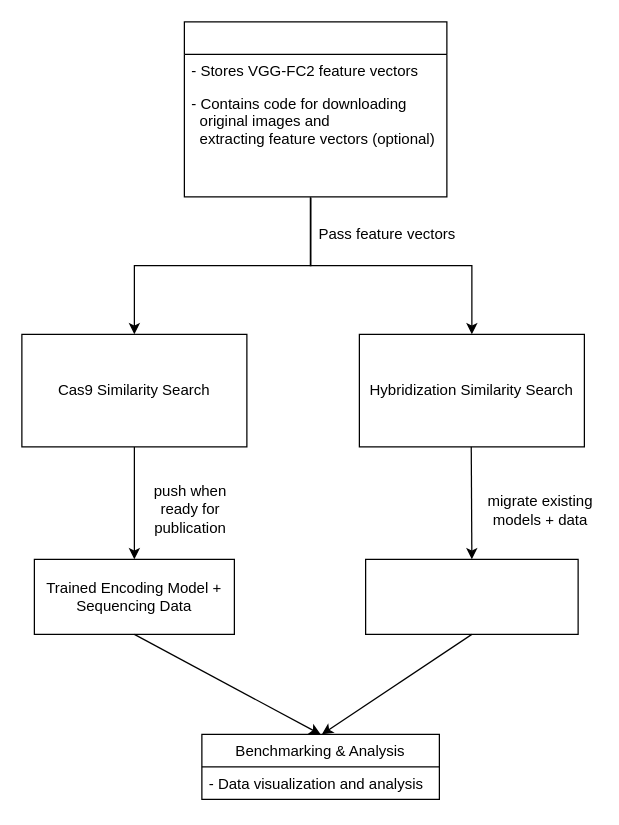
This 619x825 diagram has some shape labels left out. Each missing label, with the box of its shape:
Open Images VGG: (183, 21, 447, 197)
Trained Hybridization Models + Sequencing Data: (364, 558, 578, 634)
